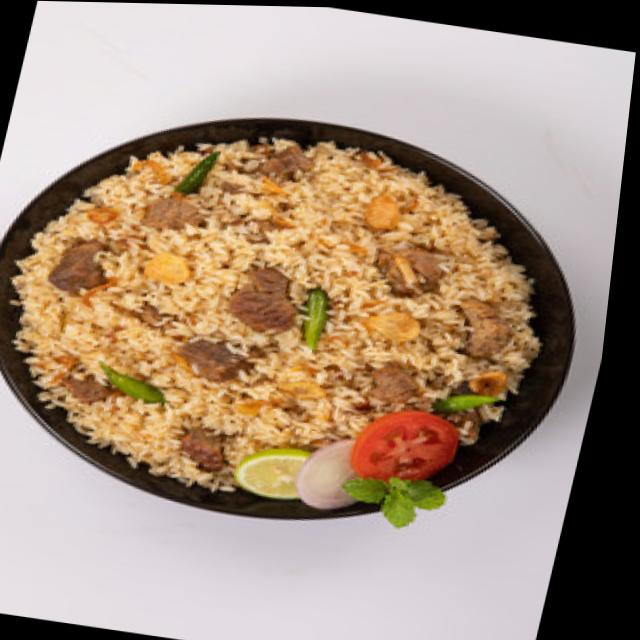BIRIYANI: (12, 137, 538, 487)
